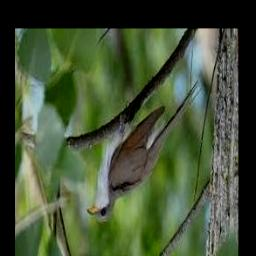Cuckoo: (86, 81, 201, 222)
